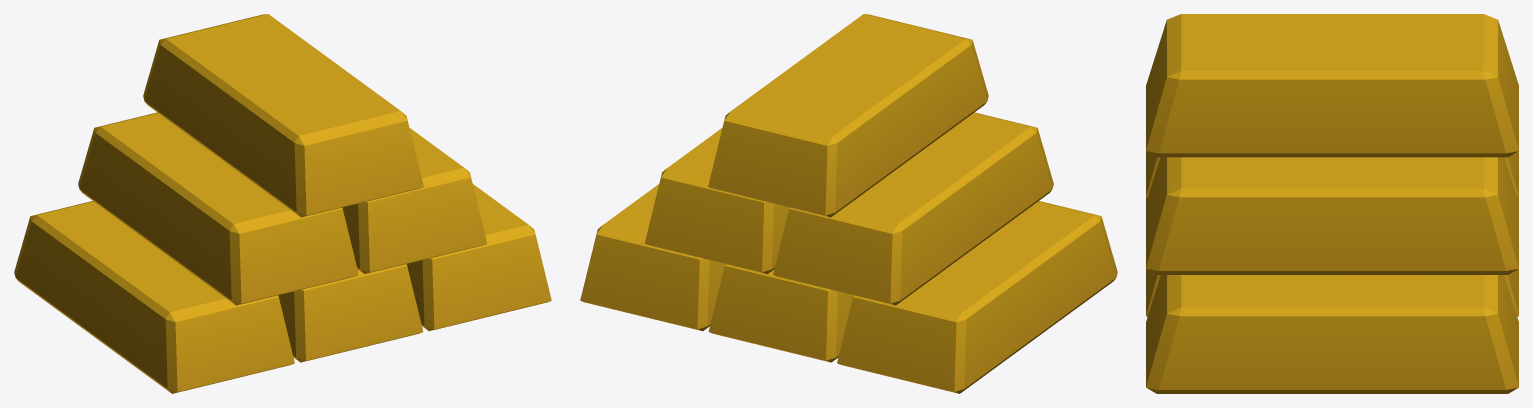
The model's file is GoldPile.fbx.
The picture shows the model from 3 angles, left to right: view 1: azimuth 30°, elevation 25°; view 2: azimuth 150°, elevation 25°; view 3: azimuth 270°, elevation 25°; orthographic projection. The views are drawn at different scales.
Parts seen in each view (by area): view 1: GoldPile; view 2: GoldPile; view 3: GoldPile.
Part boxes in pixels (left/top/right/bottom): GoldPile: left=14, top=14, right=551, bottom=393; GoldPile: left=580, top=14, right=1117, bottom=393; GoldPile: left=1146, top=14, right=1518, bottom=393.
Bounding box in the file's own units: 422 × 228 × 312.
